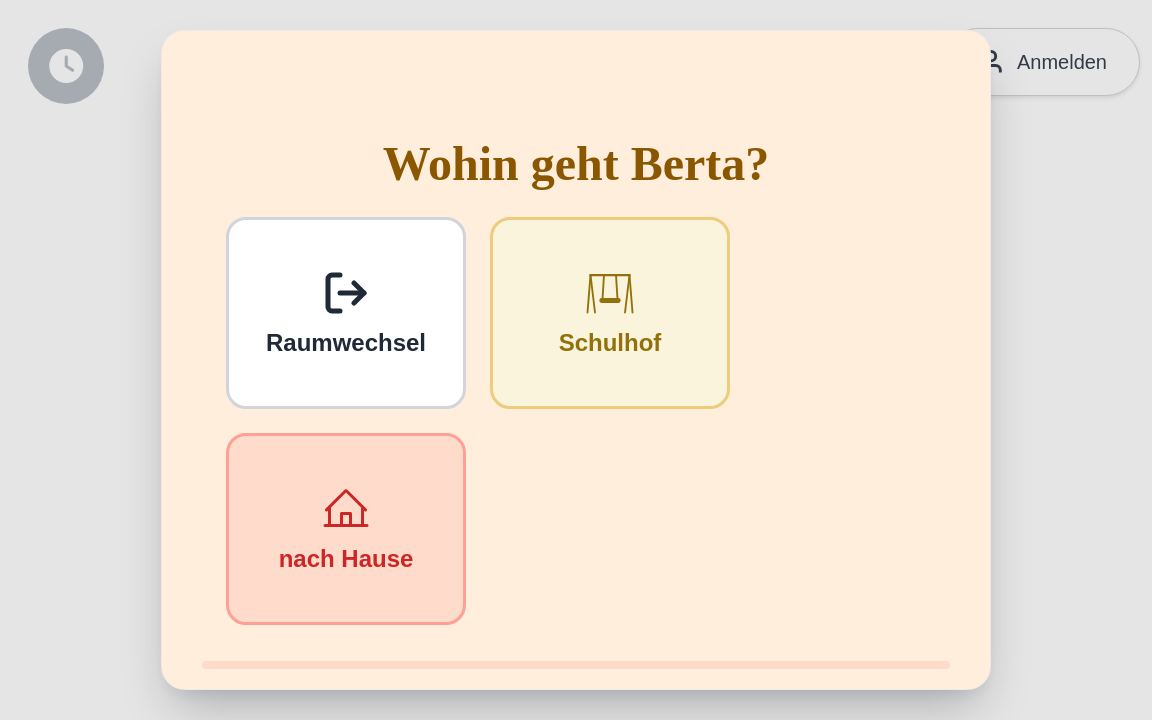
Scenario: ActivityScanningPage scan timeout notice › replaces the feedback prompt of a newer scan with the notice
What coordinates should you click on to do the following:
click the button "nach Hause"
I would click on:
 (346, 529)
Its box is [226,433,466,625].
Wait 3000 ms
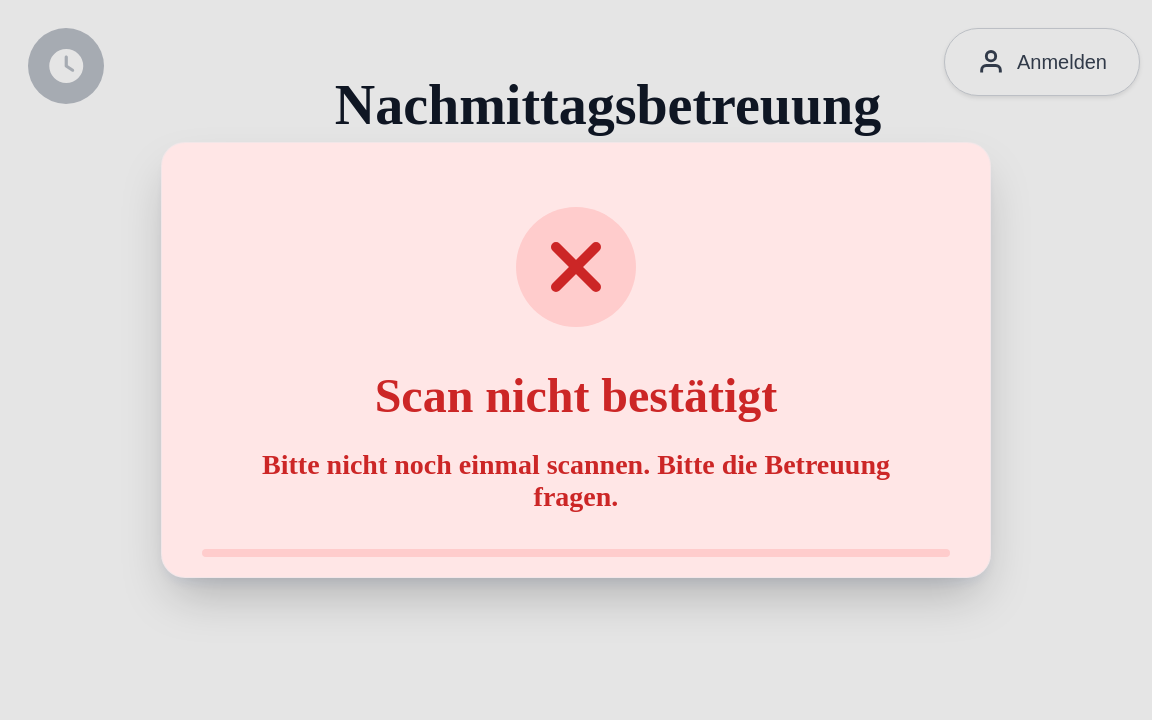
Result: the heading "Scan nicht bestätigt" is shown at [375,369,777,422]
Result: the text "Bitte nicht noch einmal scannen. Bitte die Betreuung fragen." is shown at [226,449,926,513]
